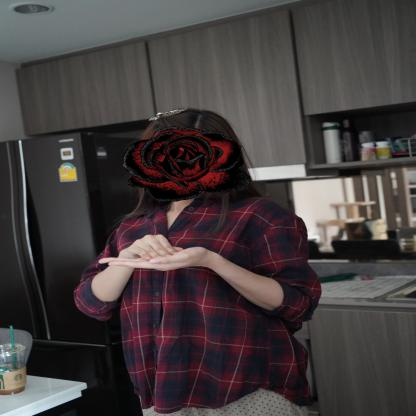Love: (88, 230, 236, 294)
